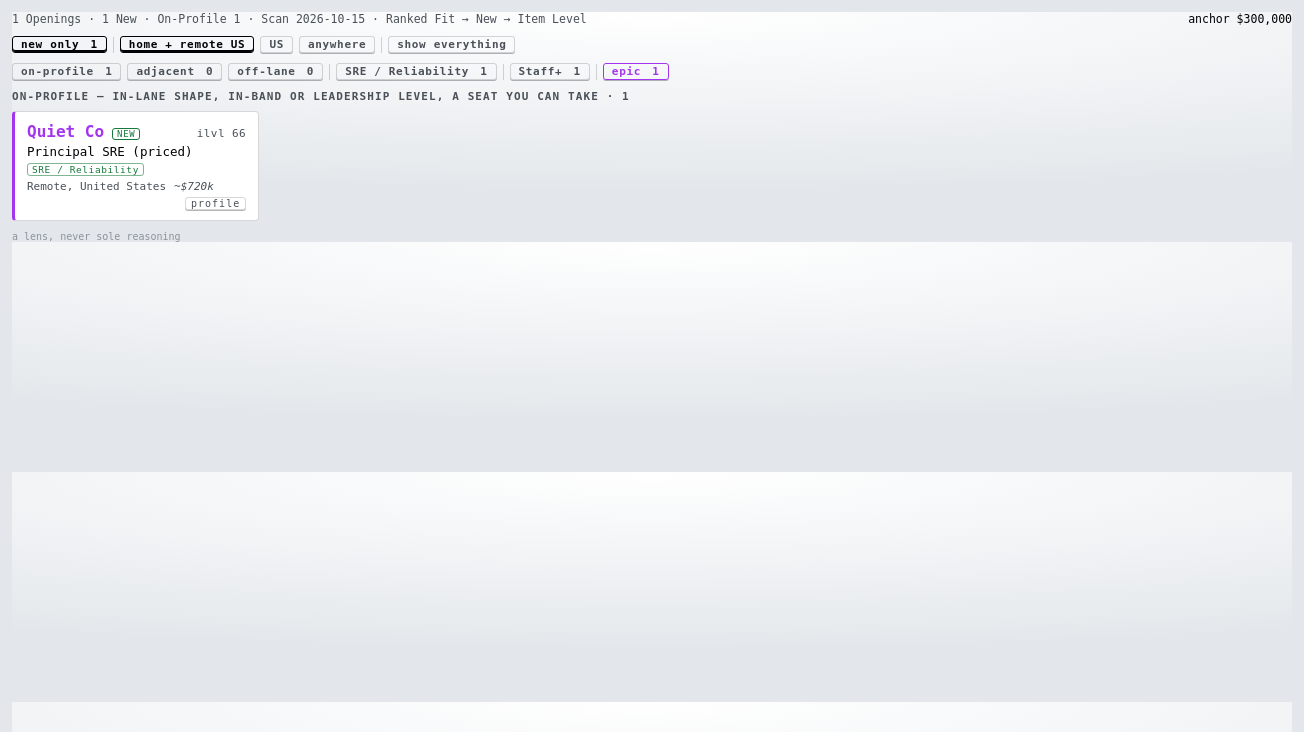
it: Openings — role items › the item card states the expected comp for the likely level, with its neighbors and basis
Hover over the link "Principal SRE (priced)".
mouse_move(136, 166)  # box [12,111,259,221]
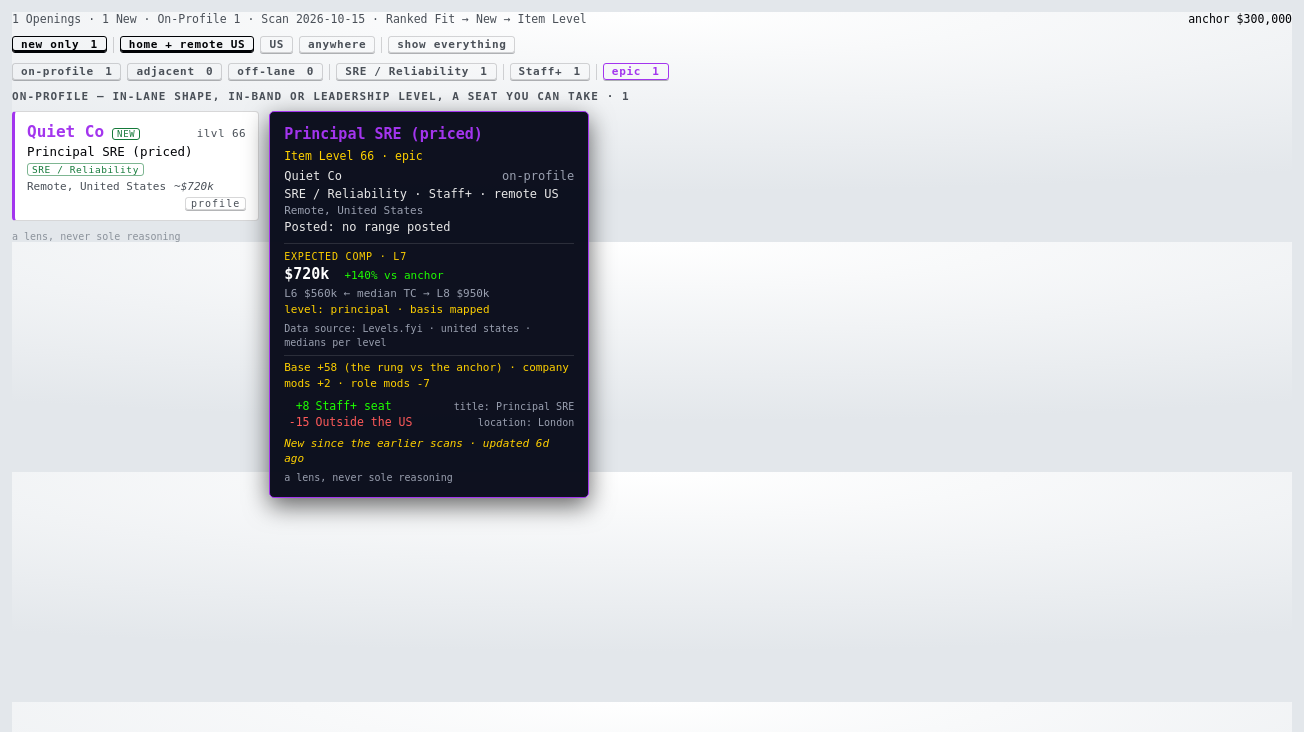
Result: the text "Expected comp · L7" is shown at [284,250,407,262]
Result: the tooltip shows "$720k" at [284,265,329,283]
Result: the tooltip shows "L6 $560k" at [284,287,337,300]
